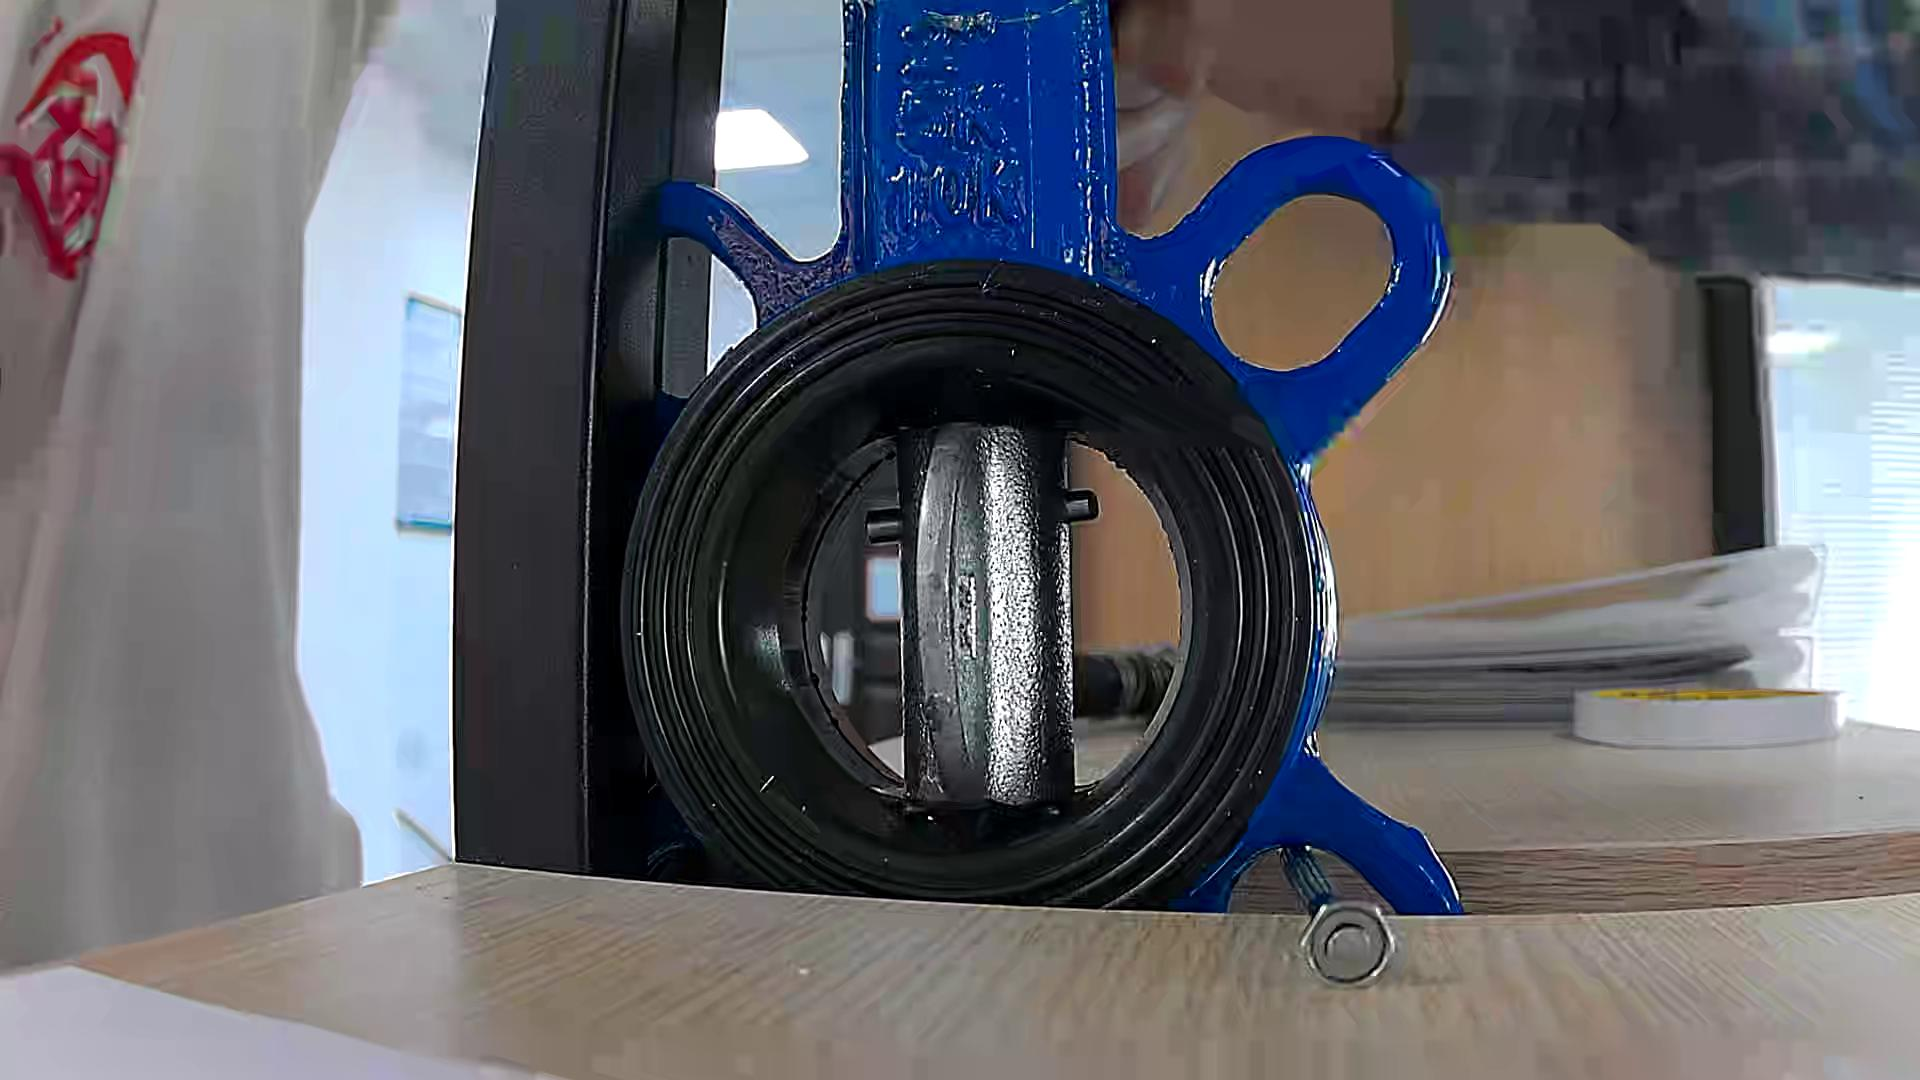valve: (897, 423, 1072, 806)
